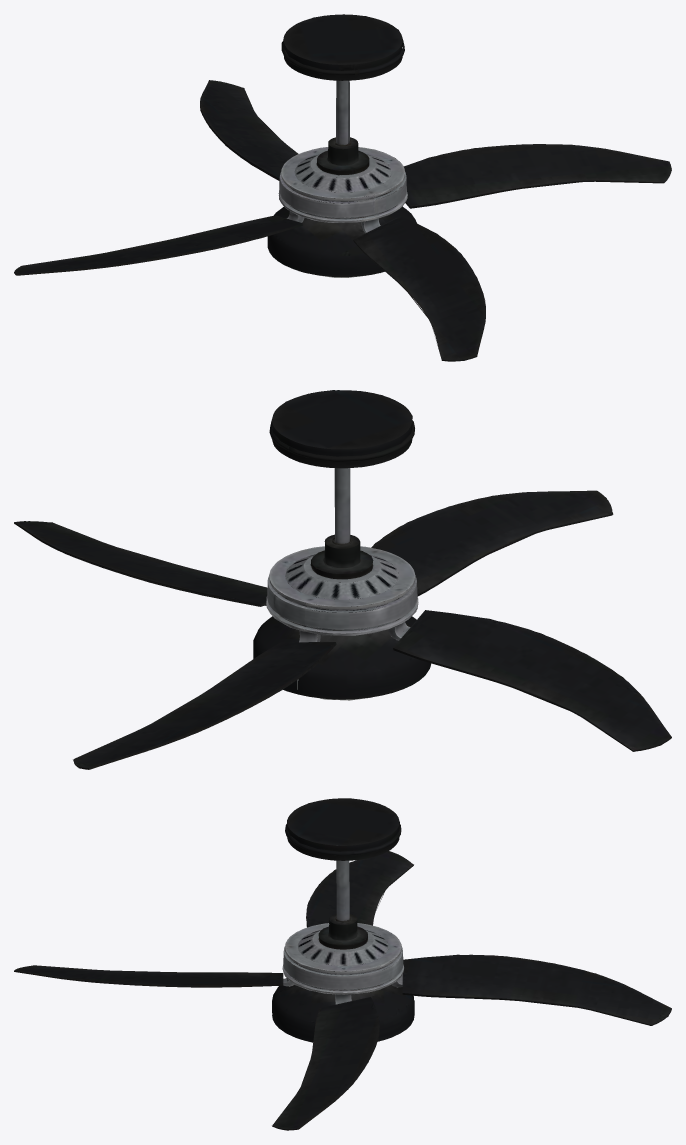
Rendered from ph_ceiling_fan.glb.
3 views of the same model, one above another, from view 1: azimuth 30°, elevation 25°; view 2: azimuth 150°, elevation 25°; view 3: azimuth 270°, elevation 25° (orthographic). The views are drawn at different scales.
Visible parts, largest first — view 1: ceiling_fan; view 2: ceiling_fan; view 3: ceiling_fan.
Boxes of the visible parts, box(x1,y1,x2,y2) form: ceiling_fan: box(14, 14, 671, 361); ceiling_fan: box(14, 390, 671, 769); ceiling_fan: box(14, 798, 671, 1130).
Size of the model in its own units: 1.46 by 0.5163 by 1.46.
1 material, 1 textured.
